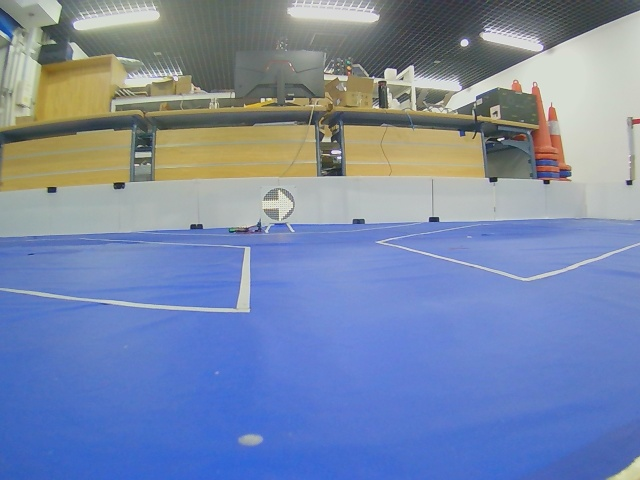right_yellow: (262, 187, 295, 222)
